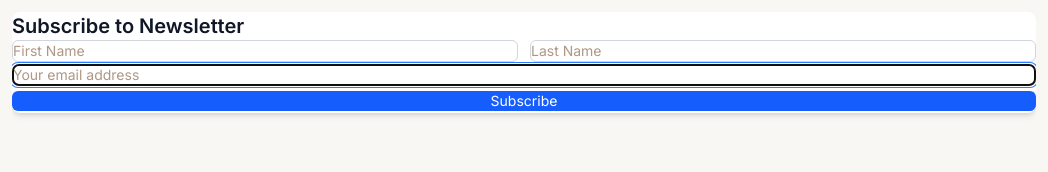
Test case: NewsletterSignup Component › shows error message for duplicate email
Type "existing@example.com" into the field with placeholder "Your email address" at (524, 75), box [12,64,1036,86]
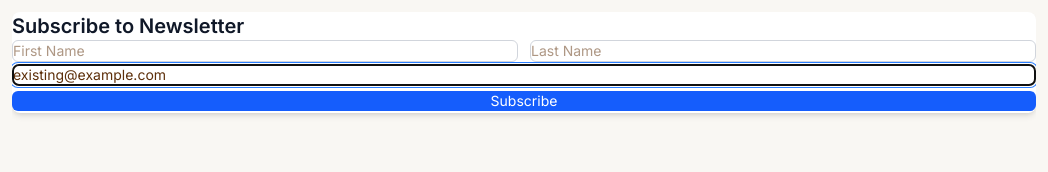
Click the button "Subscribe" at (524, 101), box [12,91,1036,111]
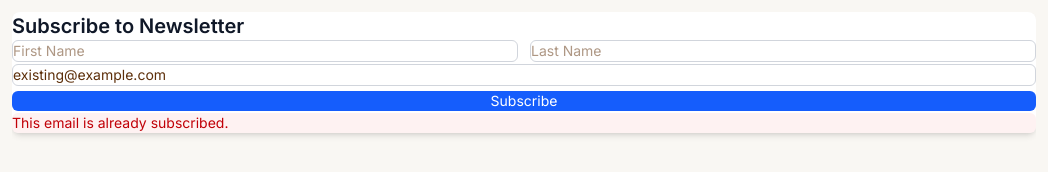
Now the text "This email is already subscribed." is shown, box [12,113,1036,133]
